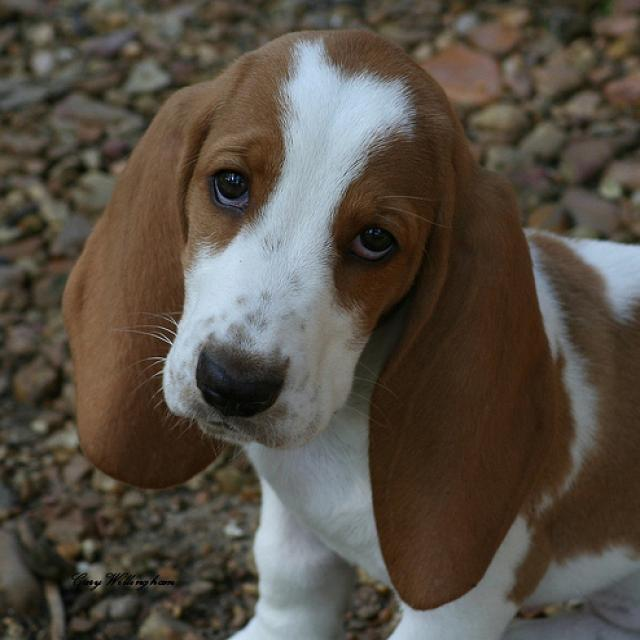dog: (61, 25, 640, 640)
